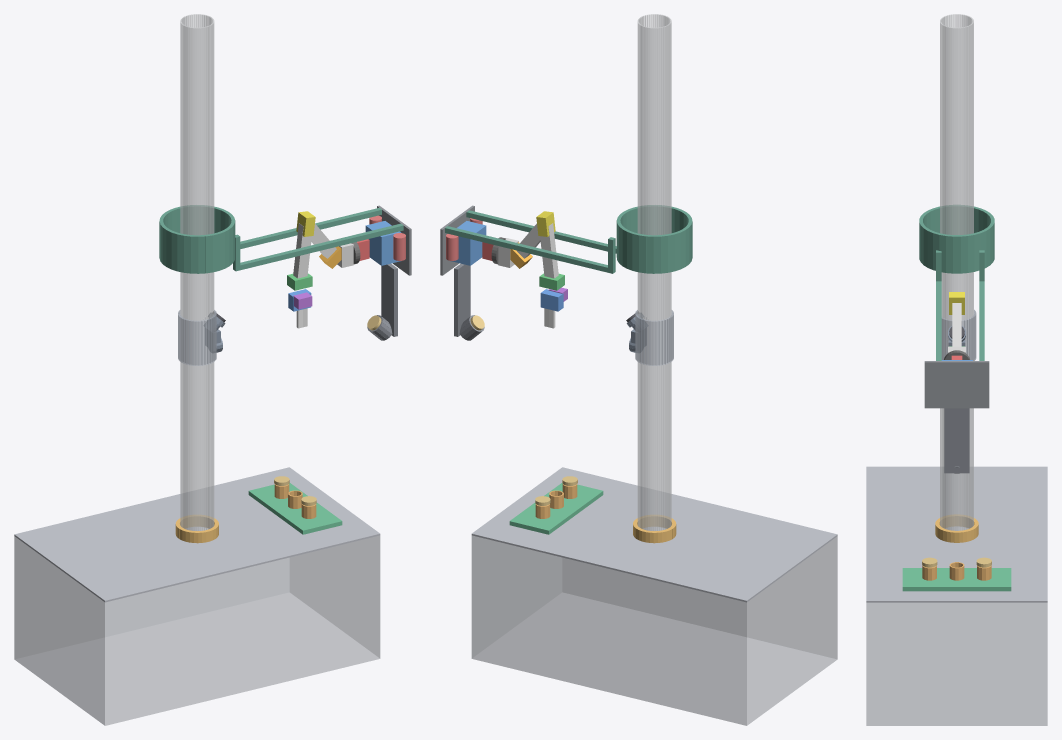
The model's file is transplant-seedling-step2-drive-v2.glb.
3 views of the same model, side by side, from view 1: azimuth 30°, elevation 25°; view 2: azimuth 150°, elevation 25°; view 3: azimuth 270°, elevation 25° (orthographic).
Bounding box in the file's own units: 0.854 × 1.55 × 0.4.
